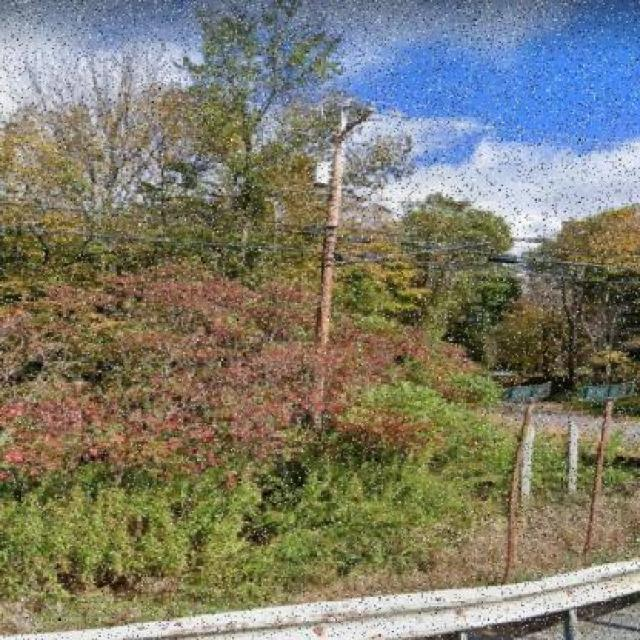pole: (292, 80, 397, 537)
